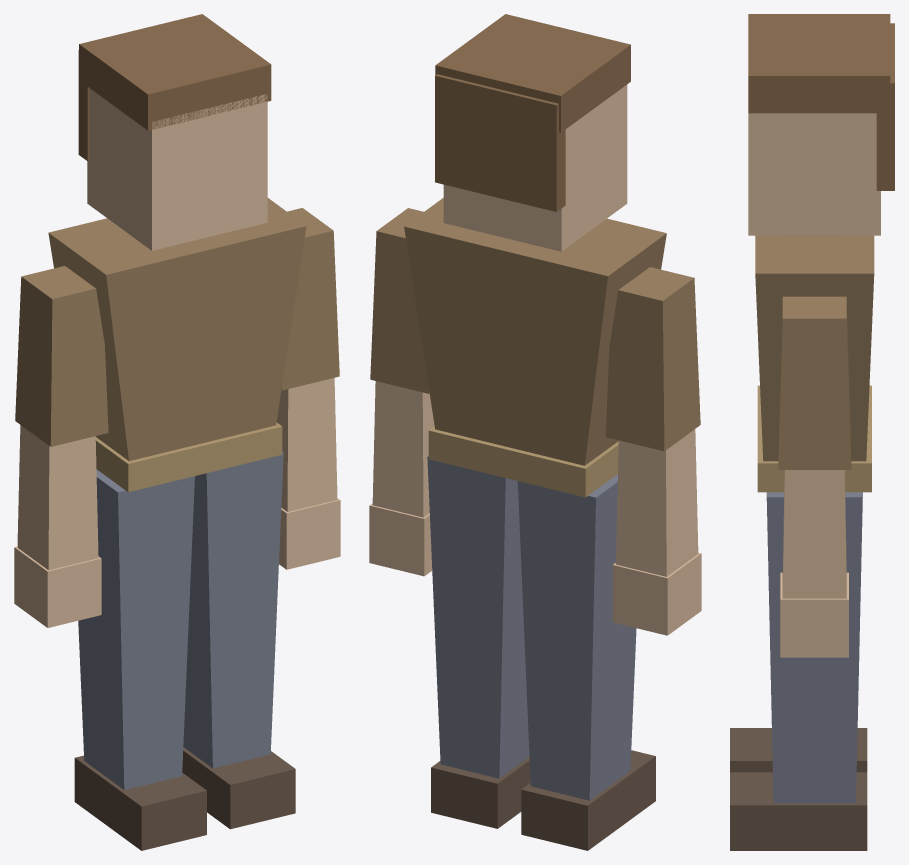
The model's file is player.glb.
The picture shows the model from 3 angles, left to right: view 1: azimuth 30°, elevation 25°; view 2: azimuth 150°, elevation 25°; view 3: azimuth 270°, elevation 25°; orthographic projection. The views are drawn at different scales.
Visible parts, largest first — view 1: Player; view 2: Player; view 3: Player.
Boxes of the visible parts, bbox=[...] form: Player: bbox=[14, 14, 340, 850]; Player: bbox=[369, 14, 701, 850]; Player: bbox=[730, 14, 894, 850].
Bounding box in the file's own units: 0.76 × 1.85 × 0.36.
